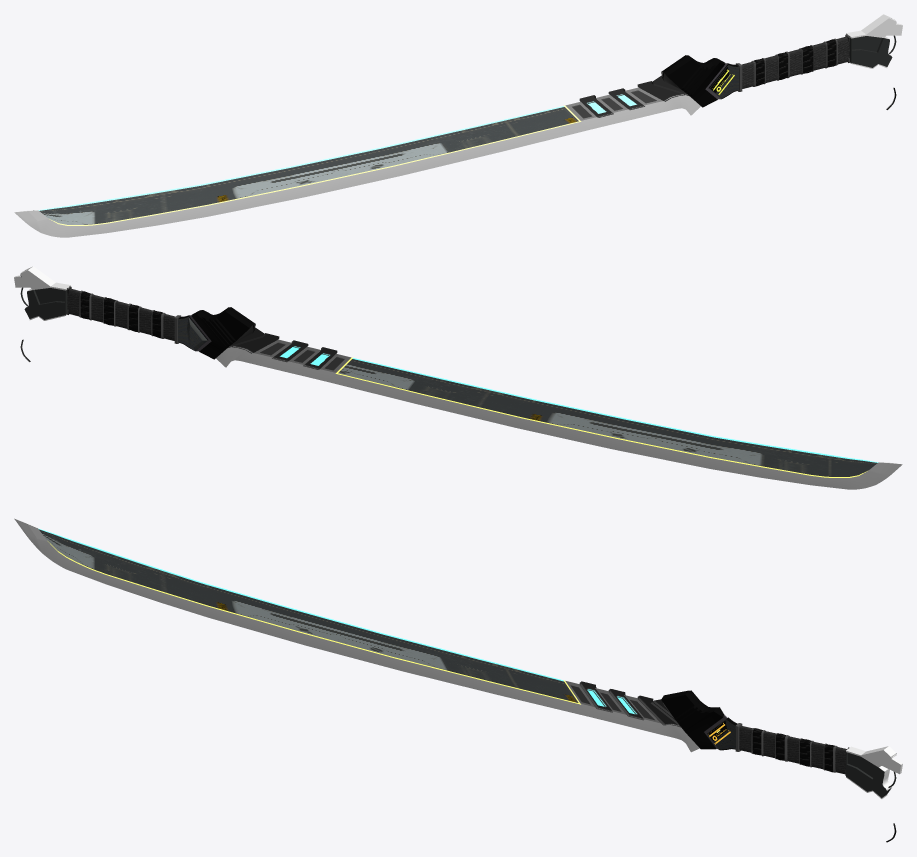
Rendered from sci-fi_futuristic_katana.glb.
The picture shows the model from 3 angles, top to bottom: view 1: azimuth 30°, elevation 25°; view 2: azimuth 150°, elevation 25°; view 3: azimuth 330°, elevation 25°; orthographic projection.
Parts seen in each view (by area): view 1: Sword_0, Handle_4; view 2: Sword_0, Handle_4; view 3: Sword_0, Handle_4.
Boxes of the visible parts, <box> form: Sword_0: <box>14,75,700,237</box>; Handle_4: <box>661,14,902,107</box>; Sword_0: <box>216,327,902,489</box>; Handle_4: <box>14,266,255,359</box>; Sword_0: <box>14,518,699,752</box>; Handle_4: <box>661,690,902,798</box>.
Size of the model in its own units: 4.41 by 0.5255 by 0.0642.
Materials: 23 (7 with a texture image).
